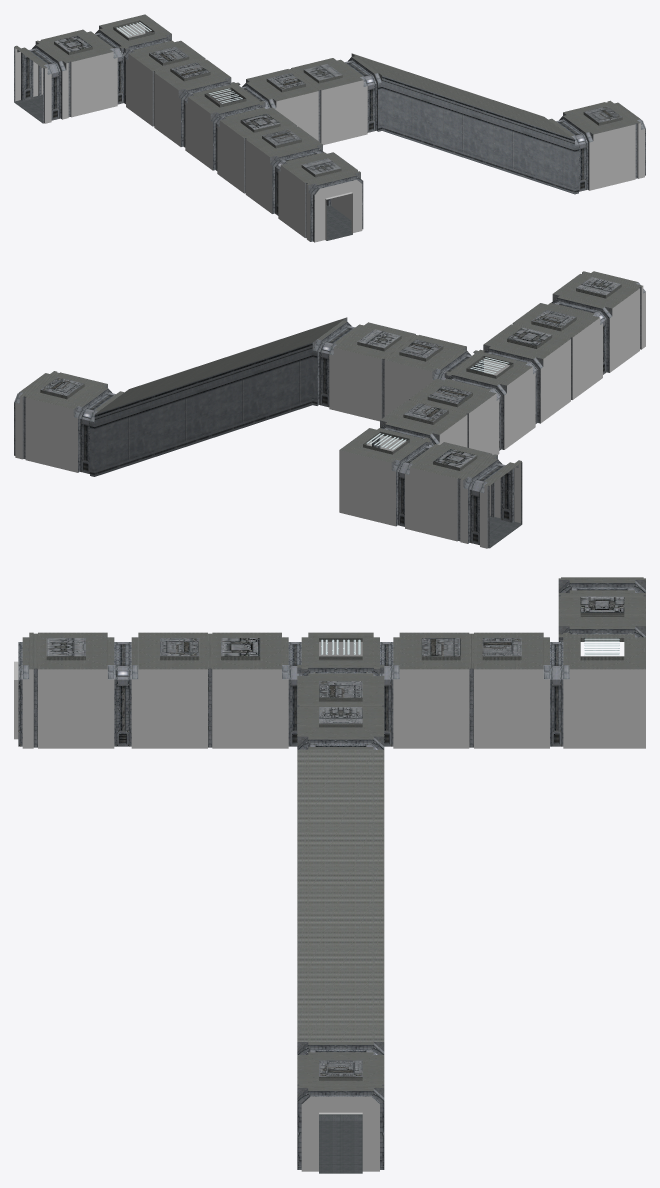
Rendered from poi_all_impl_bunker_warren_s01_r49_hall49_mesh_r49.fbx.
The picture shows the model from 3 angles, top to bottom: view 1: azimuth 30°, elevation 25°; view 2: azimuth 150°, elevation 25°; view 3: azimuth 270°, elevation 25°; orthographic projection. The views are drawn at different scales.
Visible parts, largest first — view 1: mesh_node; view 2: mesh_node; view 3: mesh_node.
Boxes of the visible parts, box(x1,y1,x2,y2) form: mesh_node: box(14, 14, 645, 242); mesh_node: box(14, 271, 645, 548); mesh_node: box(14, 577, 645, 1173).
Size of the model in its own units: 39 by 12.2 by 29.
